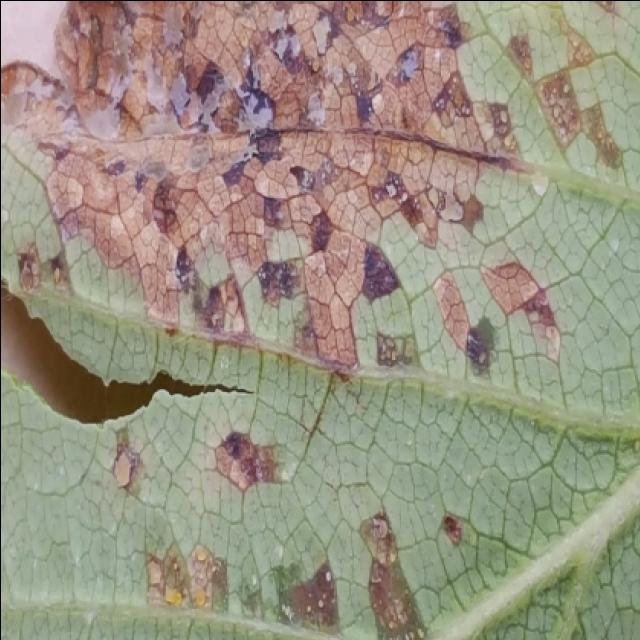Angular Leafspot: (0, 2, 629, 640)
